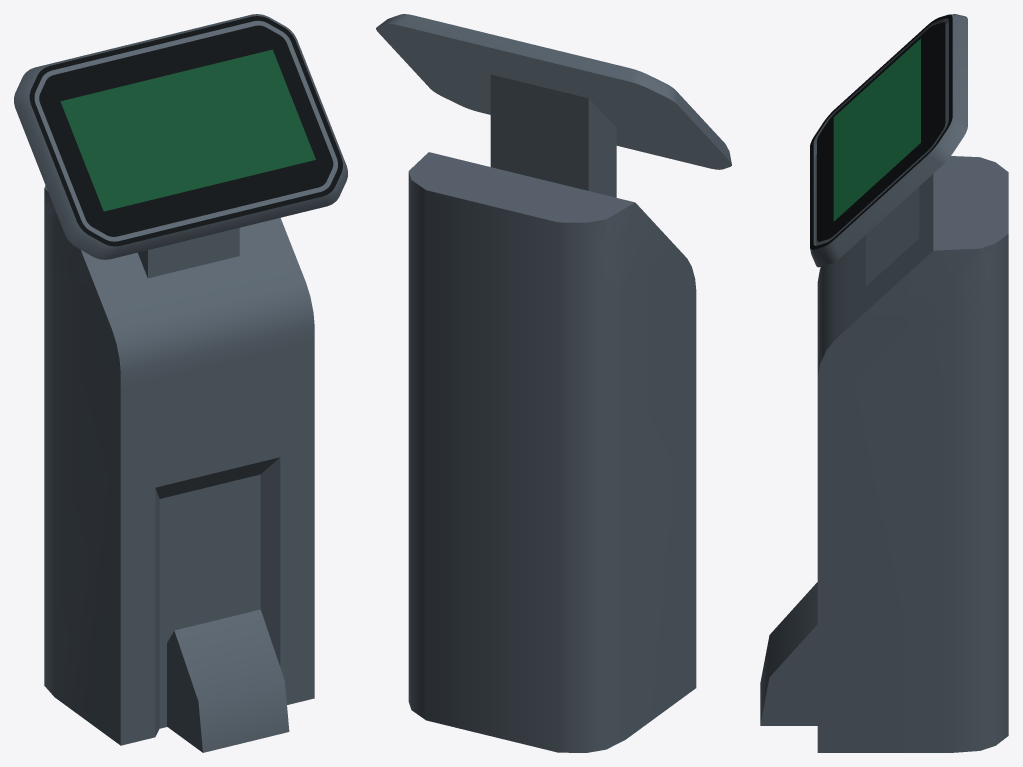
Rendered from mesh_console.glb.
The picture shows the model from 3 angles, left to right: view 1: azimuth 30°, elevation 25°; view 2: azimuth 150°, elevation 25°; view 3: azimuth 270°, elevation 25°; orthographic projection. The views are drawn at different scales.
Visible parts, largest first — view 1: body, screen; view 2: body; view 3: body, screen.
Part boxes in pixels (x1,y1,x2,y2): body: [14, 14, 347, 752]; screen: [60, 49, 315, 211]; body: [376, 14, 731, 752]; body: [760, 14, 1008, 752]; screen: [833, 38, 920, 221].
Size of the model in its own units: 0.7434 by 1.59 by 0.5625.
